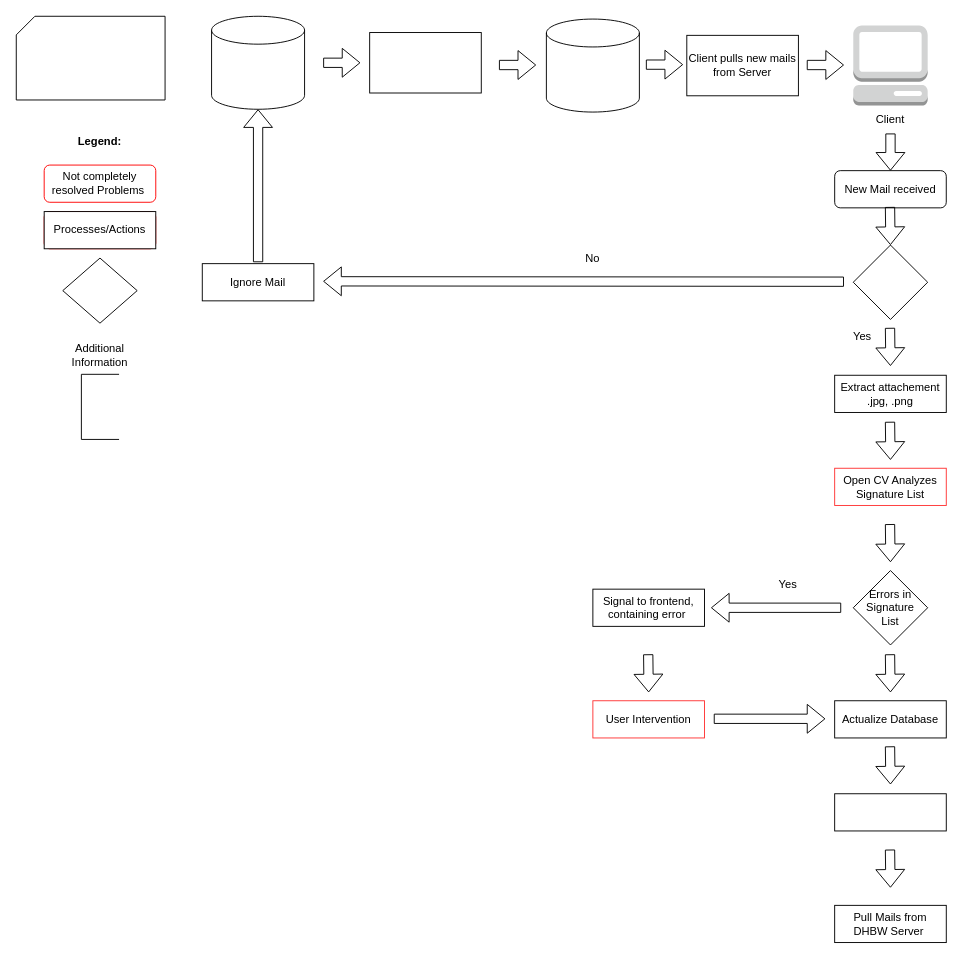
This 963x959 diagram has some shape labels left out. The centre of each missing label's shape, as x and y in pixels:
"Decisions" belongs at point (99, 290).
"DHBW Mail Server" belongs at point (258, 62).
"Mail relevant?" belongs at point (890, 281).
"Mail Server X" belongs at point (592, 65).
"Mails with certain reference will be forwared to a seperate mail server" belongs at point (425, 62).
"Main Flow Version B" belongs at point (90, 57).
"Move & Mark Mail as Done" belongs at point (890, 812).
